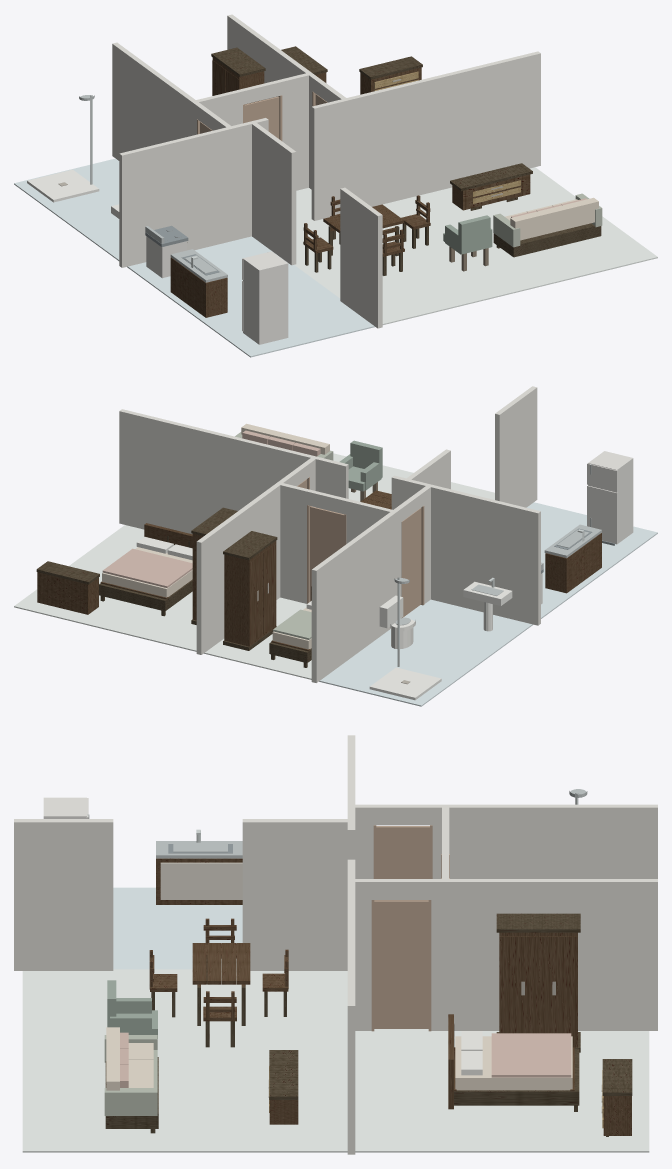
The picture shows the model from 3 angles, top to bottom: view 1: azimuth 30°, elevation 25°; view 2: azimuth 150°, elevation 25°; view 3: azimuth 270°, elevation 25°; orthographic projection. The views are drawn at different scales.
Parts seen in each view (by area): view 1: H15_WALL_02, H15_FLOOR_00_SALA_JANTAR, H15_WALL_03, H15_FLOOR_01_COZINHA, H15_WALL_07, H15_WALL_01, H15_WALL_00, H15_FLOOR_05_BANHEIRO, H15_FURN_00_fridge__05__gabinete, H15_WALL_10, H15_WALL_05, H15_WALL_08 (+19 smaller); view 2: H15_WALL_02, H15_WALL_03, H15_WALL_07, H15_FLOOR_05_BANHEIRO, H15_FLOOR_02_QUARTO_1, H15_WALL_05, H15_WALL_00, H15_FLOOR_01_COZINHA, H15_WALL_08, H15_FURN_16_wardrobe__06__corpo, H15_FLOOR_04_QUARTO_2, H15_FURN_12_bed_double__08__cobertor (+30 smaller); view 3: H15_FLOOR_00_SALA_JANTAR, H15_WALL_05, H15_FLOOR_02_QUARTO_1, H15_WALL_07, H15_WALL_01, H15_WALL_00, H15_FLOOR_01_COZINHA, H15_DOOR_00_LEAF, H15_FURN_13_wardrobe__04__porta_esquerda, H15_FURN_13_wardrobe__03__porta_direita, H15_FURN_12_bed_double__08__cobertor, H15_FURN_03_kitchen_sink__05__portas (+26 smaller).
Boxes of the visible parts, x1,y1,x2,y2 form: H15_WALL_02: (344, 51, 540, 206); H15_FLOOR_00_SALA_JANTAR: (294, 167, 657, 324); H15_WALL_03: (119, 127, 231, 267); H15_FLOOR_01_COZINHA: (127, 236, 374, 357); H15_WALL_07: (112, 42, 201, 160); H15_WALL_01: (251, 122, 296, 265); H15_WALL_00: (340, 187, 382, 328); H15_FLOOR_05_BANHEIRO: (14, 158, 119, 260); H15_FURN_00_fridge__05__gabinete: (243, 251, 288, 344); H15_WALL_10: (311, 99, 346, 220); H15_WALL_05: (227, 14, 317, 189); H15_WALL_08: (278, 73, 308, 190); H15_WALL_02: (119, 409, 315, 534); H15_WALL_03: (429, 484, 540, 625); H15_WALL_07: (311, 507, 401, 682); H15_FLOOR_05_BANHEIRO: (319, 599, 532, 706); H15_FLOOR_02_QUARTO_1: (14, 525, 196, 651); H15_WALL_05: (196, 478, 287, 654); H15_WALL_00: (495, 386, 537, 507); H15_FLOOR_01_COZINHA: (526, 502, 657, 618); H15_WALL_08: (280, 483, 310, 603); H15_FURN_16_wardrobe__06__corpo: (224, 541, 276, 646); H15_FLOOR_04_QUARTO_2: (204, 597, 311, 679); H15_FURN_12_bed_double__08__cobertor: (102, 548, 192, 587); H15_FLOOR_00_SALA_JANTAR: (22, 969, 347, 1152); H15_WALL_05: (430, 879, 657, 1030); H15_FLOOR_02_QUARTO_1: (355, 1029, 649, 1152); H15_WALL_07: (431, 804, 657, 878); H15_WALL_01: (242, 819, 351, 970); H15_WALL_00: (14, 819, 113, 970); H15_FLOOR_01_COZINHA: (113, 887, 242, 969); H15_DOOR_00_LEAF: (374, 900, 428, 1028); H15_FURN_13_wardrobe__04__porta_esquerda: (539, 936, 577, 1044); H15_FURN_13_wardrobe__03__porta_direita: (499, 936, 537, 1033); H15_FURN_12_bed_double__08__cobertor: (491, 1033, 571, 1077); H15_FURN_03_kitchen_sink__05__portas: (160, 862, 242, 899).
Size of the model in its own units: 9.48 by 2.46 by 9.53.
18 materials, 3 textured.
